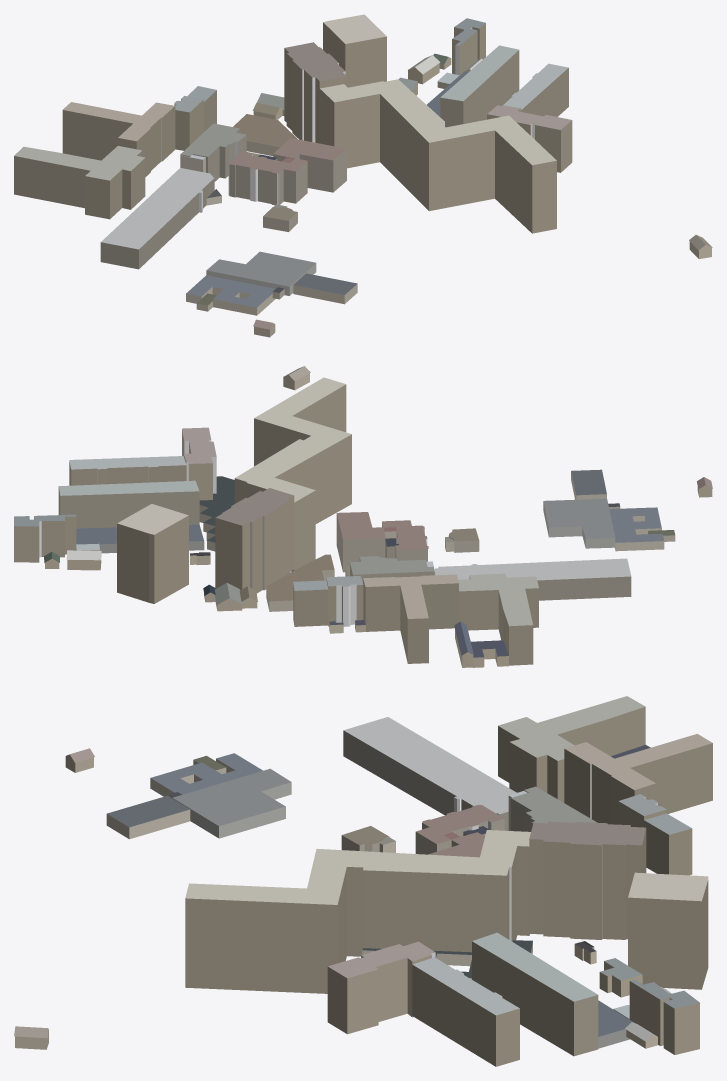
3 views of the same model, one above another, from view 1: azimuth 30°, elevation 25°; view 2: azimuth 150°, elevation 25°; view 3: azimuth 270°, elevation 25° (orthographic). The views are drawn at different scales.
Parts seen in each view (by area): view 1: tuile; view 2: tuile; view 3: tuile.
Boxes of the visible parts, x1=… form: tuile: x1=14, y1=14, x2=712, y2=337; tuile: x1=14, y1=366, x2=712, y2=667; tuile: x1=14, y1=696, x2=712, y2=1066.
Size of the model in its own units: 291 by 42.49 by 265.
